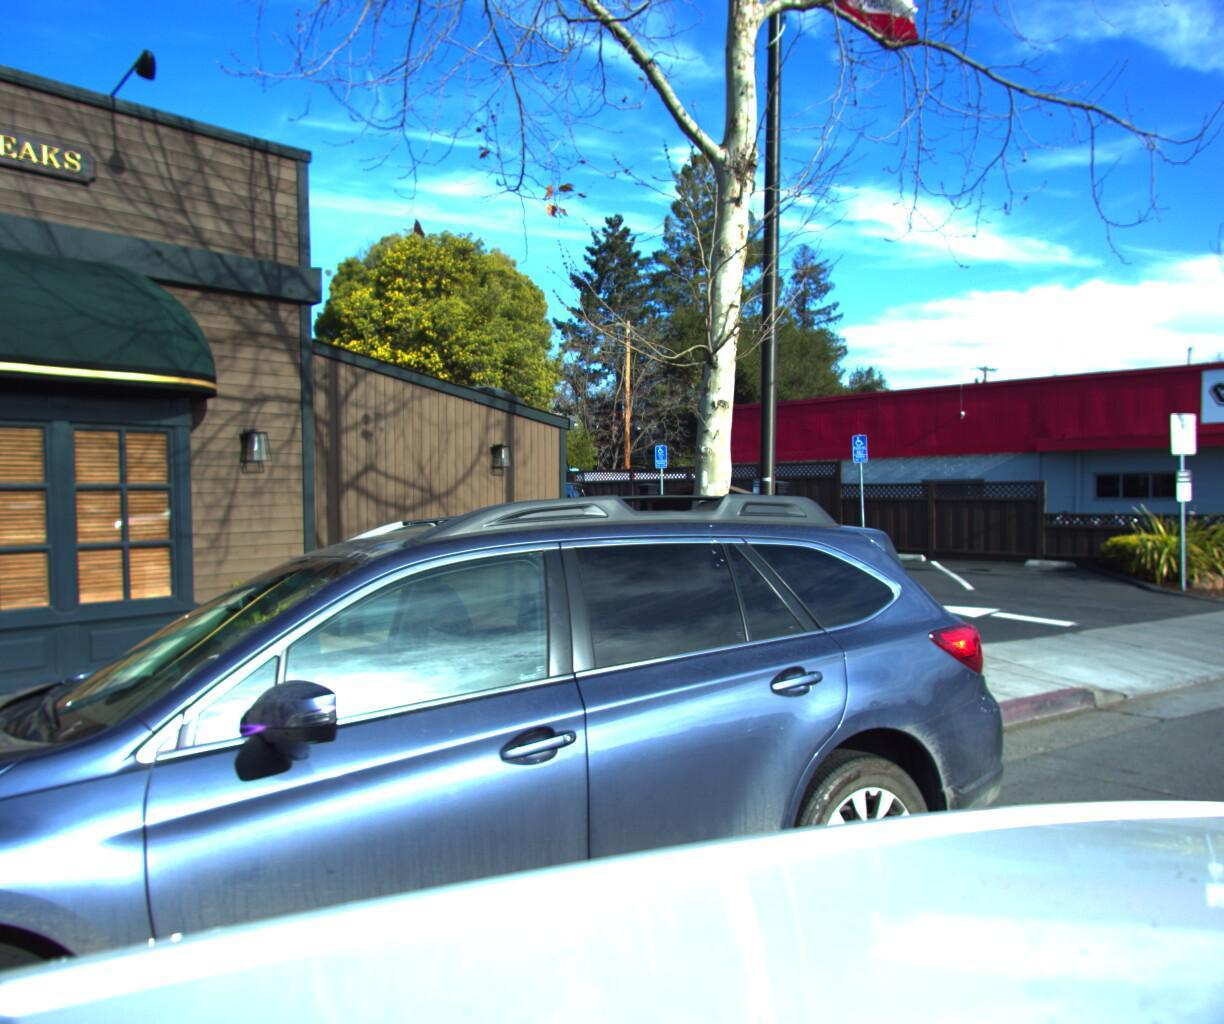car: (0, 479, 1081, 1024)
